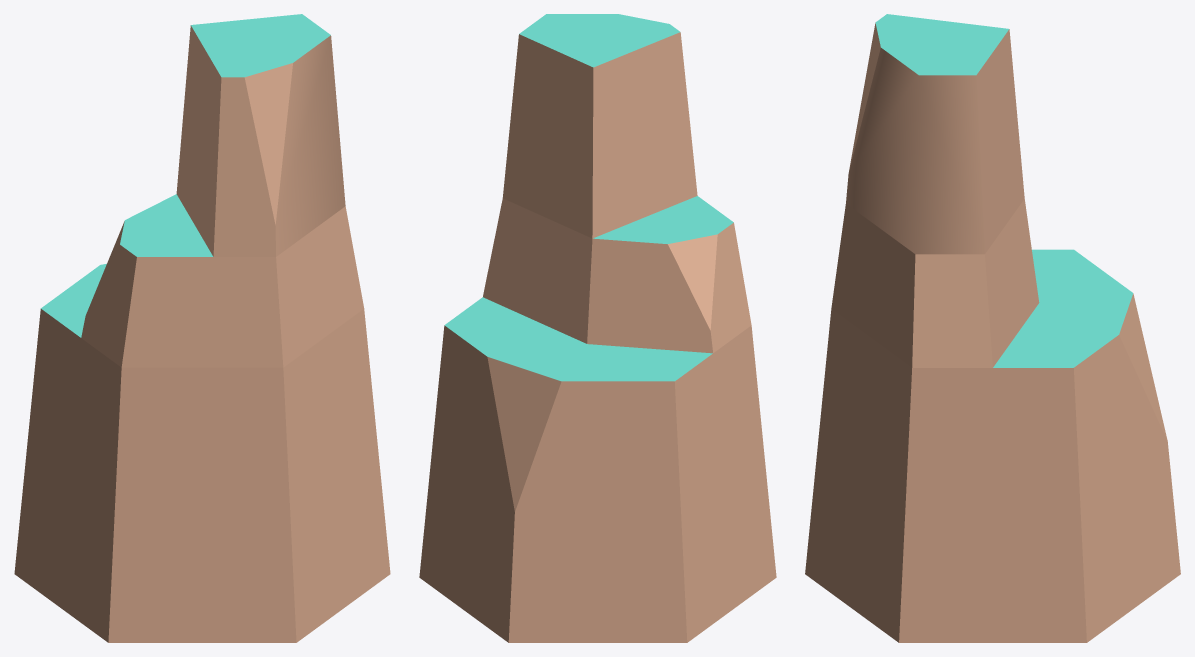
Rendered from rock_tallG.glb.
The picture shows the model from 3 angles, left to right: view 1: azimuth 30°, elevation 25°; view 2: azimuth 150°, elevation 25°; view 3: azimuth 270°, elevation 25°; orthographic projection. The views are drawn at different scales.
Visible parts, largest first — view 1: rock_tallG; view 2: rock_tallG; view 3: rock_tallG.
Part boxes in pixels (<box>): rock_tallG: <box>14,14,390,642</box>; rock_tallG: <box>419,14,776,642</box>; rock_tallG: <box>805,14,1180,642</box>.
Size of the model in its own units: 0.4249 by 0.7829 by 0.4907.
